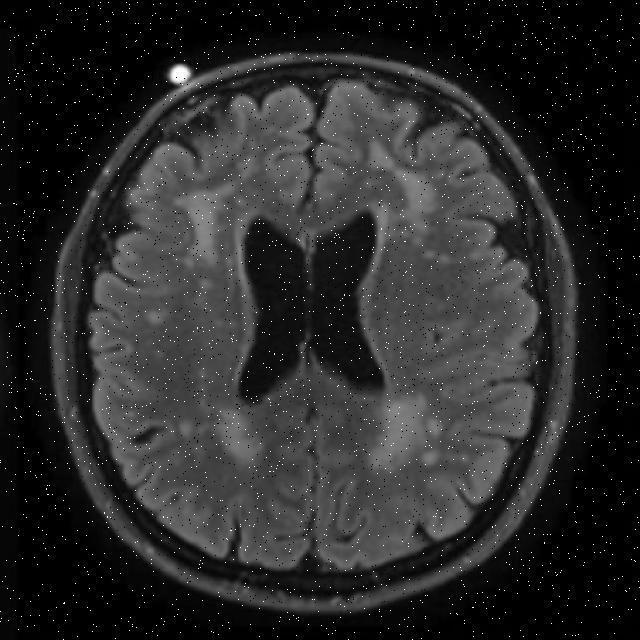No_Tumor: (53, 53, 575, 610)
